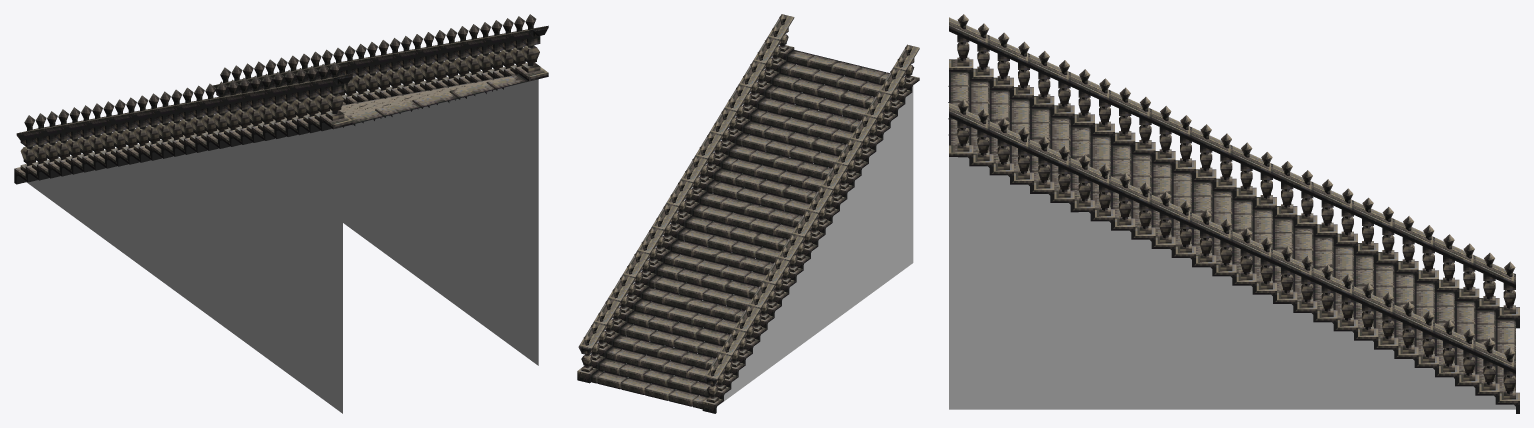
File: EnvMdrMD_Castle_A_Stairs_Unique_A.FBX
The picture shows the model from 3 angles, left to right: view 1: azimuth 30°, elevation 25°; view 2: azimuth 150°, elevation 25°; view 3: azimuth 270°, elevation 25°; orthographic projection. The views are drawn at different scales.
Parts seen in each view (by area): view 1: EnvMdrMD_Castle_A_Stairs_Unique_A; view 2: EnvMdrMD_Castle_A_Stairs_Unique_A; view 3: EnvMdrMD_Castle_A_Stairs_Unique_A.
Boxes of the visible parts, x1,y1,x2,y2 form: EnvMdrMD_Castle_A_Stairs_Unique_A: [14, 14, 548, 413]; EnvMdrMD_Castle_A_Stairs_Unique_A: [577, 14, 919, 413]; EnvMdrMD_Castle_A_Stairs_Unique_A: [948, 14, 1519, 413].
Bounding box in the file's own units: 550 × 845 × 1413.
